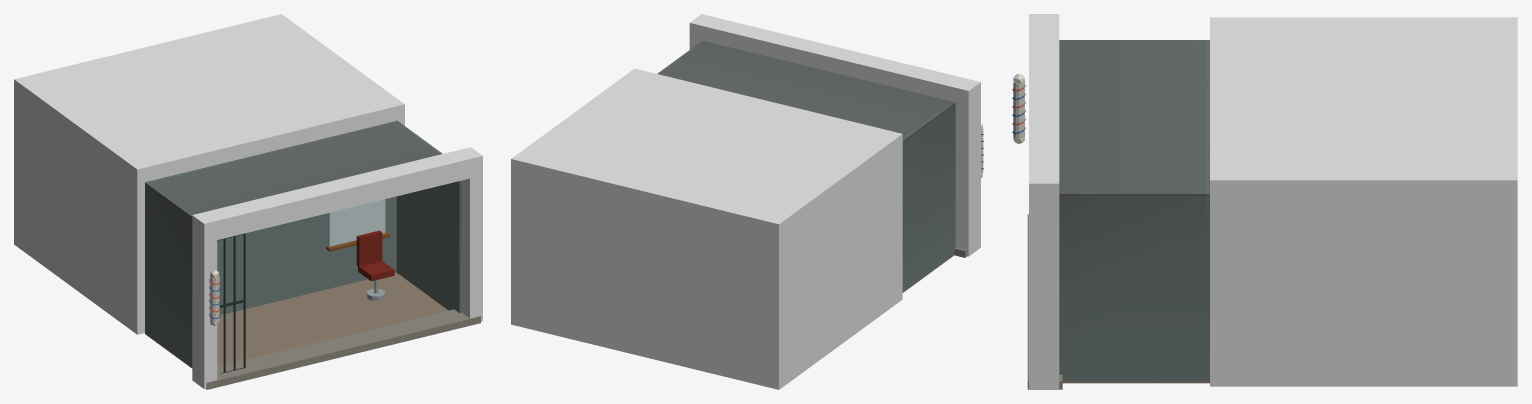
Rendered from tret_hot_toc_60.glb.
3 renders of one model, left to right at view 1: azimuth 30°, elevation 25°; view 2: azimuth 150°, elevation 25°; view 3: azimuth 270°, elevation 25°, orthographic. The views are drawn at different scales.
Visible parts, largest first — view 1: tret_hot_toc_60; view 2: tret_hot_toc_60; view 3: tret_hot_toc_60.
Part boxes in pixels (x1,y1,x2,y2): tret_hot_toc_60: (14,14,482,389); tret_hot_toc_60: (511,14,983,389); tret_hot_toc_60: (1012,14,1517,389).
Bounding box in the file's own units: 6 × 3.42 × 7.55.
